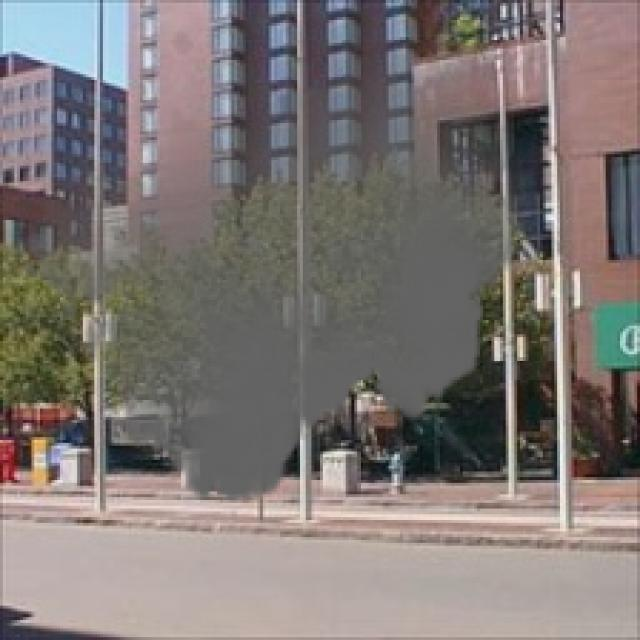Smoke: (11, 6, 526, 520)
